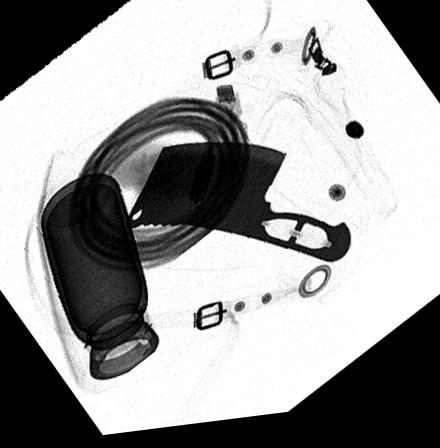Knife: (124, 146, 352, 272)
